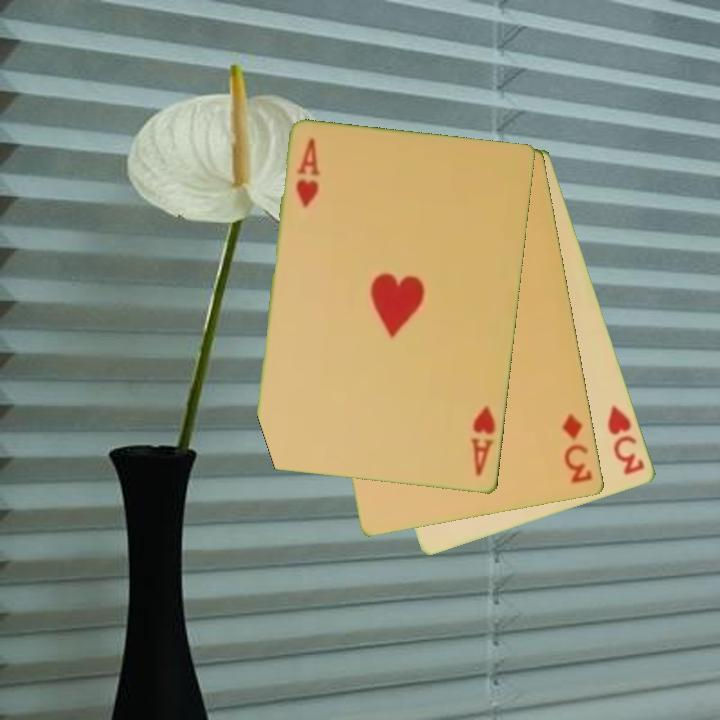3d: (559, 410, 596, 486)
3h: (604, 402, 648, 478)
Ah: (468, 402, 499, 479), (293, 135, 322, 211)
